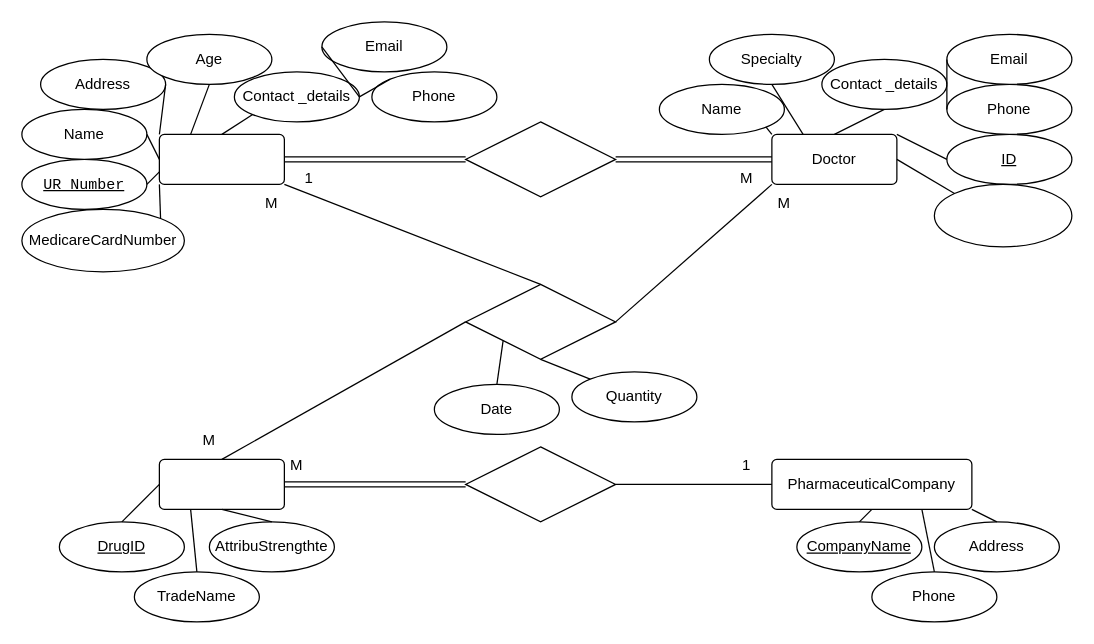
Image size: 1094x644. Some labels were removed from this diagram. Each missing label, with the centre of its shape:
Assigned: the point at 540,159
Drug: the point at 221,483
Patient: the point at 221,158
Prescribes: the point at 540,321
Supplies: the point at 540,484
YearsOfExperience: the point at 1002,215
